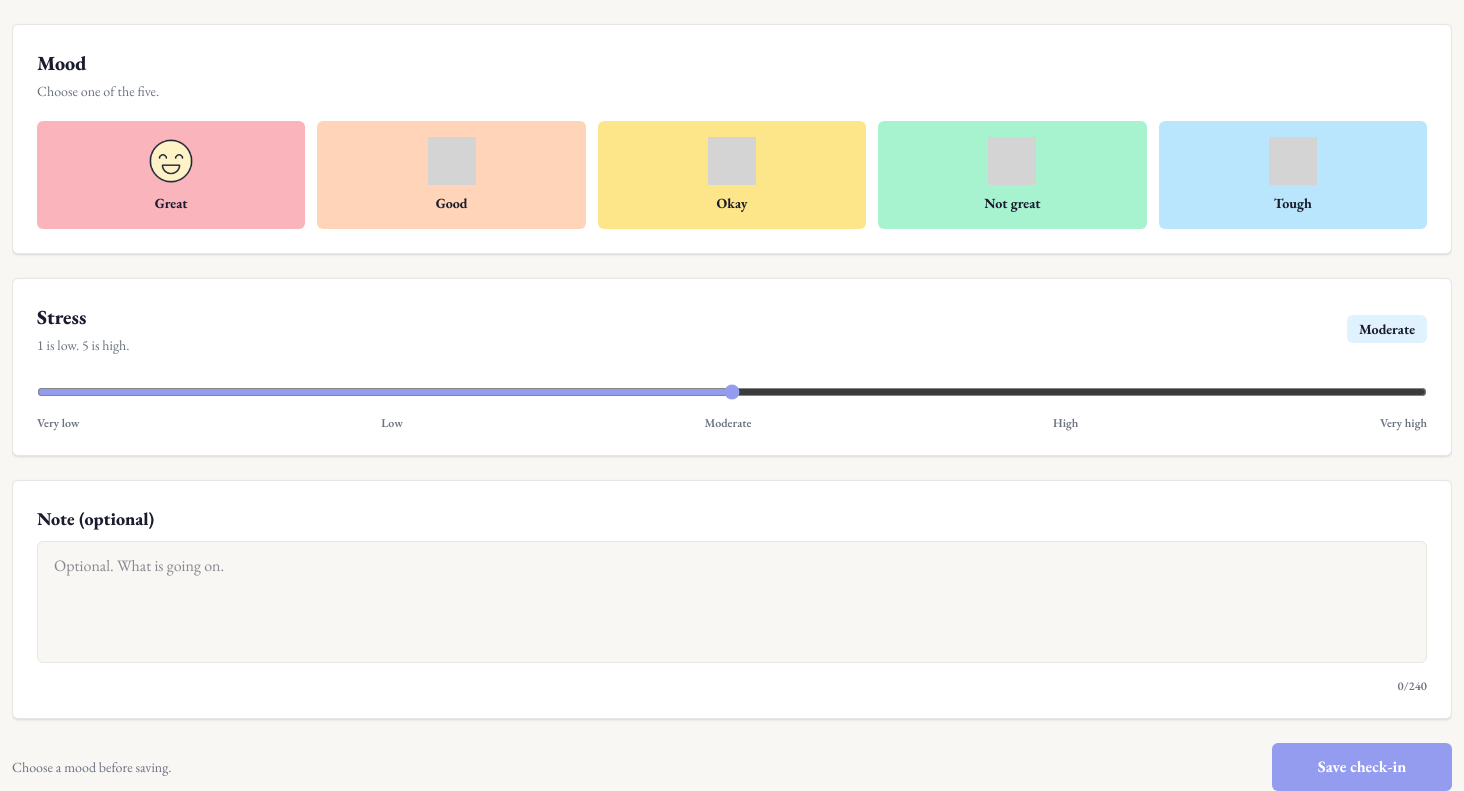
MoodStress › requires a mood before saving
The width and height of the screenshot is (1464, 791).
(page scrolled)
Click the button "Save check-in" at (1362, 767), box [1272,743,1452,790]
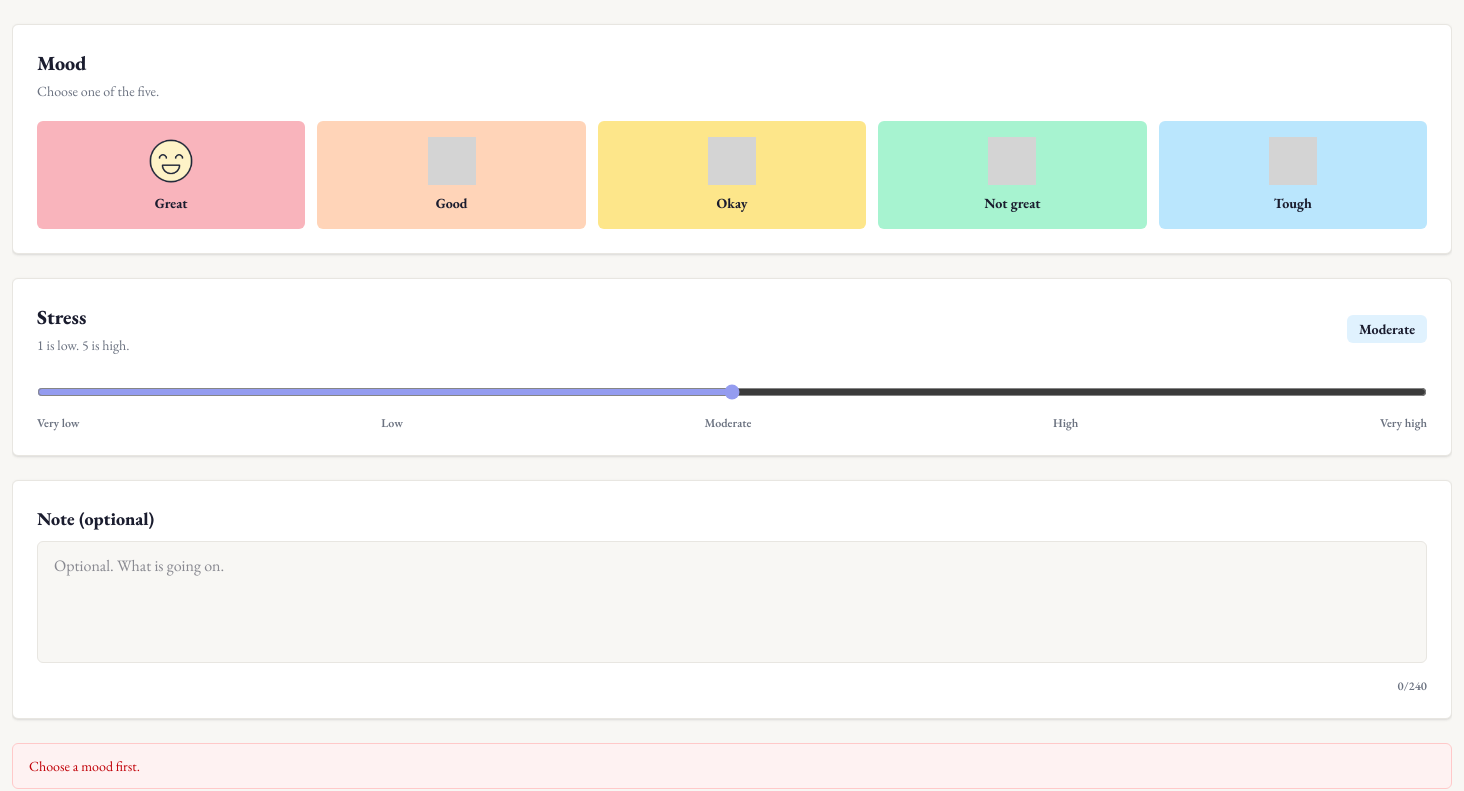
Expected: the message reads "Choose a mood first.", [29,757,140,775]
